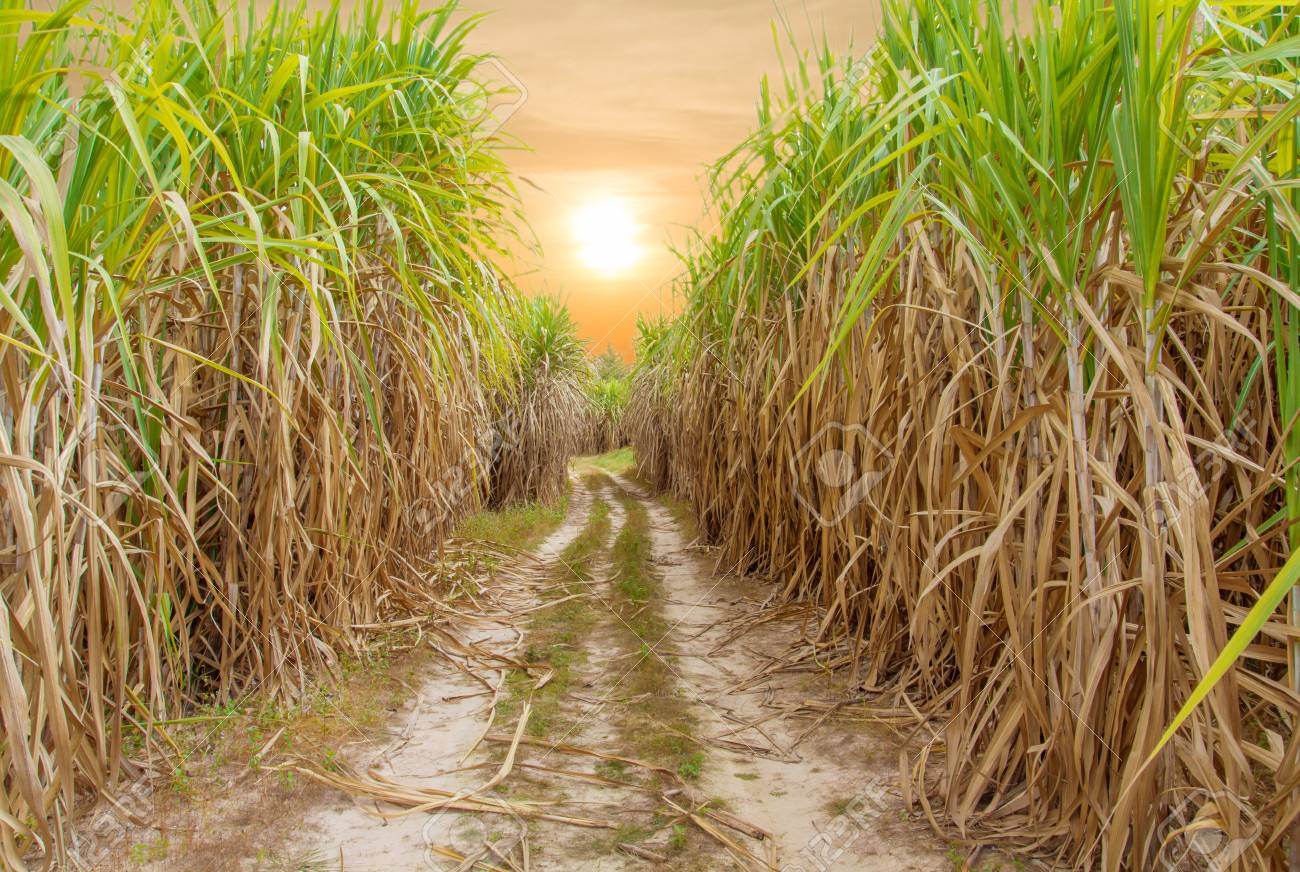sugarcane: (755, 1, 1288, 867), (1, 1, 372, 825), (338, 229, 575, 585), (619, 217, 781, 557)
